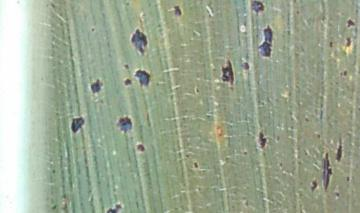tarspot: (258, 23, 273, 58), (129, 27, 148, 54), (220, 57, 235, 86), (322, 153, 332, 191), (133, 68, 152, 87), (116, 115, 133, 132), (71, 116, 85, 134), (90, 78, 104, 95), (251, 1, 264, 14), (258, 130, 267, 148), (107, 203, 123, 213), (172, 3, 182, 18), (335, 141, 342, 161), (346, 18, 356, 29), (135, 143, 146, 152), (344, 36, 352, 48), (241, 62, 251, 71), (310, 178, 316, 193), (124, 78, 132, 88), (327, 39, 334, 49), (333, 189, 340, 198), (122, 63, 130, 70), (192, 160, 199, 168), (345, 174, 351, 183), (342, 68, 348, 77), (89, 26, 96, 33), (194, 88, 200, 94)
